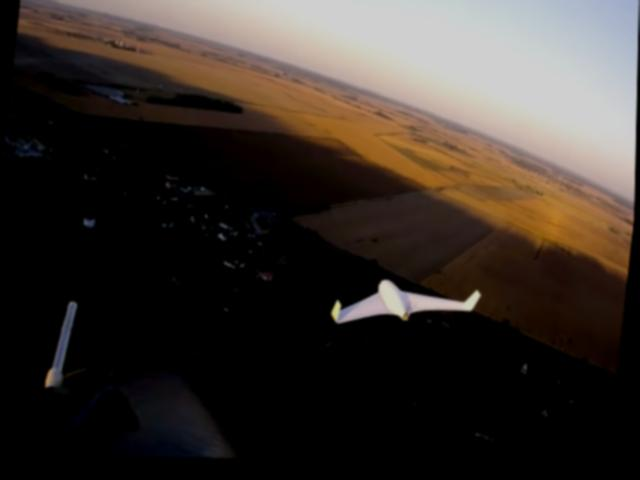plane: (330, 276, 484, 341)
